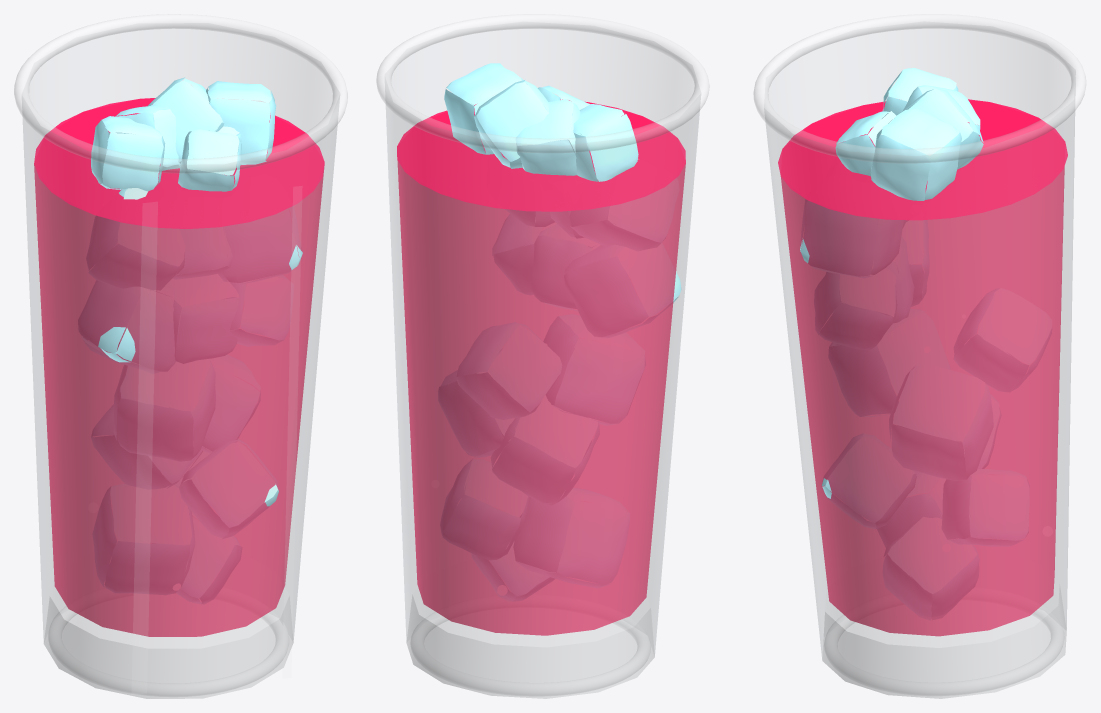
File: iced-tea-glass.glb
3 views of the same model, side by side, from view 1: azimuth 30°, elevation 25°; view 2: azimuth 150°, elevation 25°; view 3: azimuth 270°, elevation 25° (orthographic).
Size of what is drawn, in the model's own units: 1.33 by 2.54 by 1.37.
